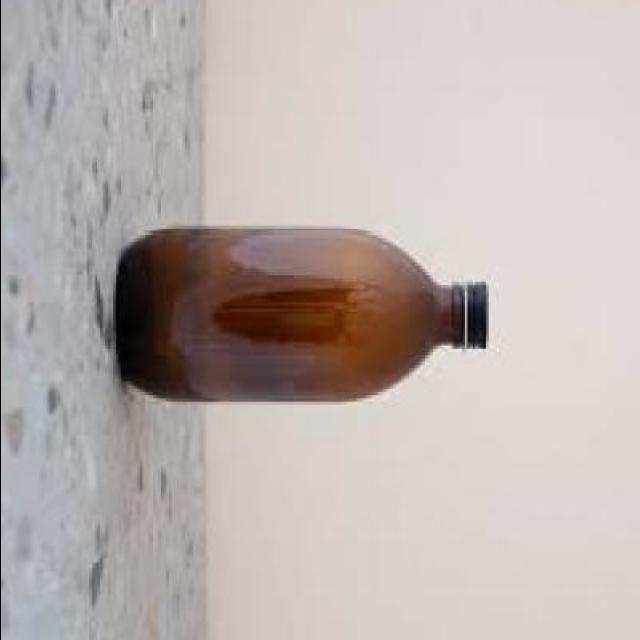kaca: (117, 229, 466, 408)
